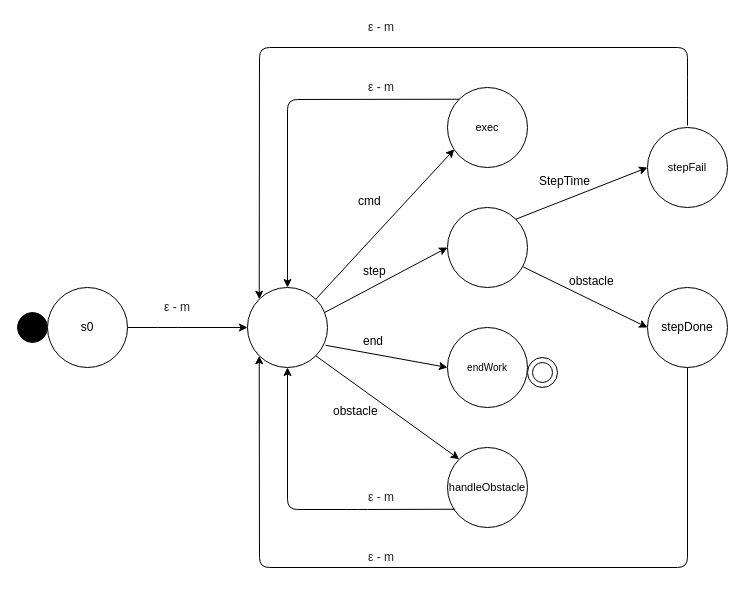
Image size: 745x593. Some labels were removed from this diagram. The box of each missing label's shape, as (x1, y1, x2, y2) in pixels:
doStep: (446, 206, 528, 288)
work: (246, 286, 328, 368)
